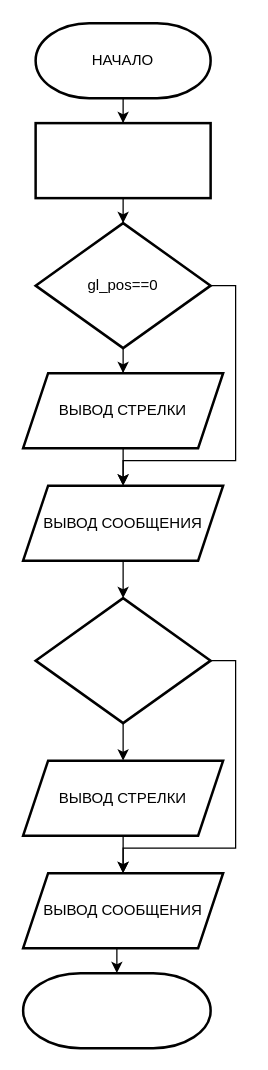
Image size: 268x1070. Some labels were removed from this diagram. The centre of each missing label's shape, as x and y in pixels:
"gl_length=1" goes at [122,160].
"gl_pos==1" goes at [122,660].
"КОНЕЦ" goes at [116,1010].
